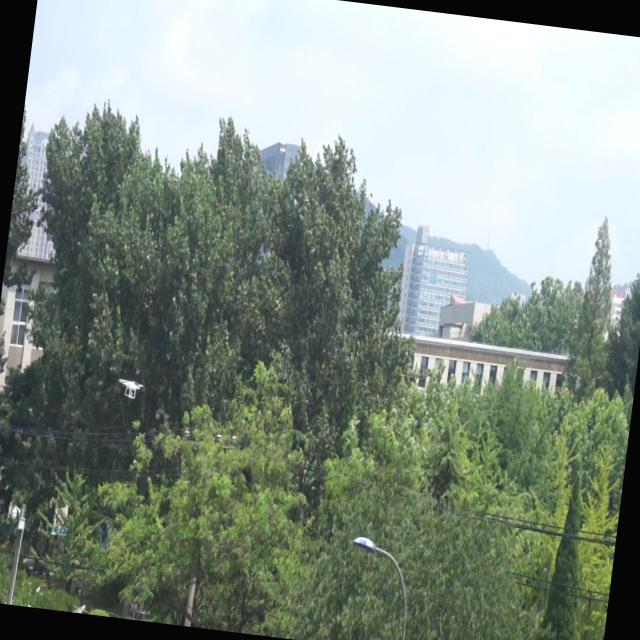drone: (115, 372, 146, 405)
